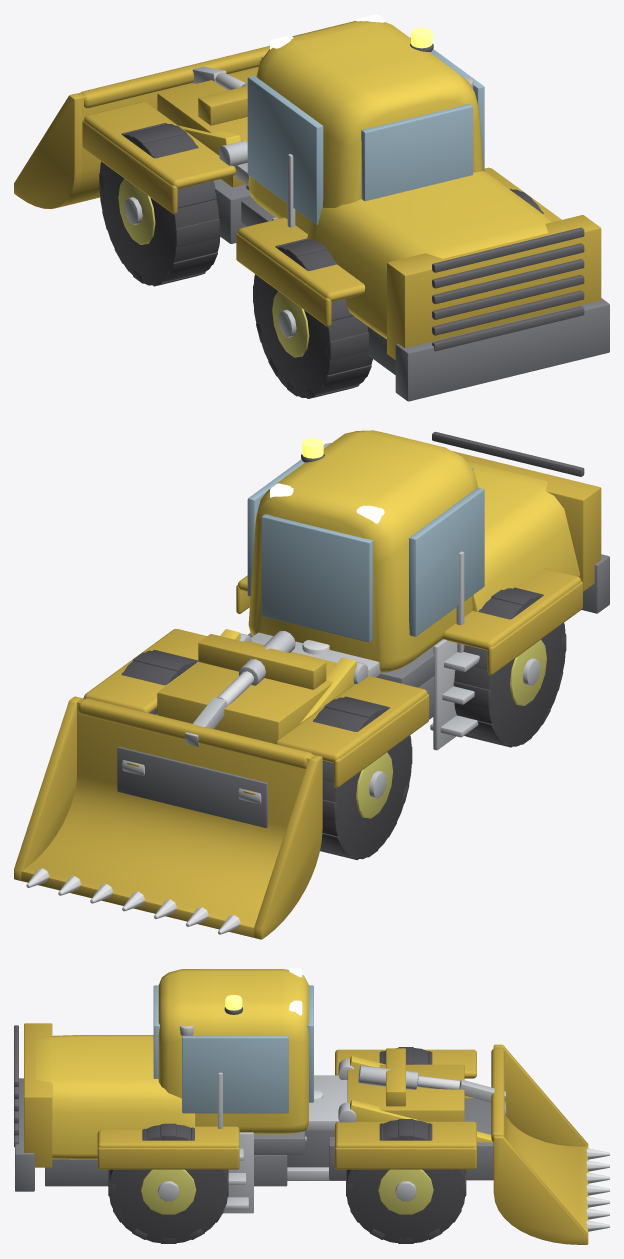
File: th21_radlader.glb
3 views of the same model, one above another, from view 1: azimuth 30°, elevation 25°; view 2: azimuth 150°, elevation 25°; view 3: azimuth 270°, elevation 25° (orthographic). The views are drawn at different scales.
Visible parts, largest first — view 1: Kabine, Haube, Cube.049, Cube.050, Cube.067, Cube.068, Cylinder.003, Cylinder, Schaufelwange, Cube.059, Cube.057, Cube.094 (+26 smaller); view 2: Schaufelblech, Kabine, Cube.066, Haube, Cube.068, Cube.089, Cube.088, Cylinder, Cylinder.003, Schaufelwange, Schaufelwange.001, Cube.059 (+19 smaller); view 3: Kabine, Haube, Cube.069, Cylinder.009, Cylinder.006, Schaufelwange.001, Schaufelblech, Cube.089, Schaufelwange, Cube.049, Cube.062, Cube.064 (+21 smaller).
Part boxes in pixels (x1,y1,x2,y2): Kabine: (248, 21, 483, 233); Haube: (307, 171, 552, 338); Cube.049: (387, 215, 601, 359); Cube.050: (395, 298, 609, 401); Cube.067: (361, 104, 473, 200); Cube.068: (247, 76, 323, 224); Cylinder.003: (99, 124, 220, 285); Cylinder: (253, 239, 372, 397); Schaufelwange: (14, 93, 82, 209); Cube.059: (84, 102, 236, 189); Cube.057: (237, 217, 365, 301); Cube.094: (81, 46, 269, 108); Schaufelblech: (21, 698, 314, 937); Kabine: (248, 430, 478, 672); Cube.066: (261, 514, 373, 642); Haube: (466, 461, 580, 611); Cube.068: (409, 487, 484, 636); Cube.089: (157, 640, 336, 743); Cube.088: (117, 746, 267, 827); Cylinder: (454, 588, 565, 746); Cylinder.003: (315, 697, 412, 859); Schaufelwange: (254, 755, 322, 939); Schaufelwange.001: (14, 696, 81, 880); Cube.059: (275, 675, 427, 762); Kabine: (158, 969, 308, 1134); Haube: (36, 1035, 195, 1159); Cube.069: (182, 1035, 288, 1113); Cylinder.009: (347, 1120, 465, 1243); Cylinder.006: (109, 1124, 227, 1243); Schaufelwange.001: (493, 1135, 588, 1244); Schaufelblech: (493, 1047, 588, 1233); Cube.089: (347, 1064, 464, 1121); Schaufelwange: (493, 1044, 588, 1146); Cube.049: (24, 1023, 52, 1167); Cube.062: (97, 1147, 239, 1169); Cube.064: (335, 1147, 476, 1169).
Size of the model in its own units: 2.74 by 2.94 by 7.13.
